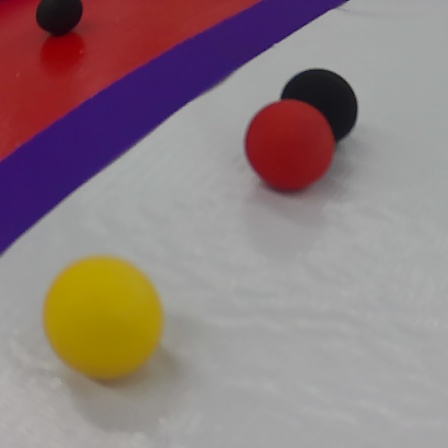black: (282, 65, 360, 147), (33, 0, 84, 37)
red: (242, 100, 338, 196)
red_aim: (0, 0, 344, 259)
yellow: (43, 259, 165, 380)
